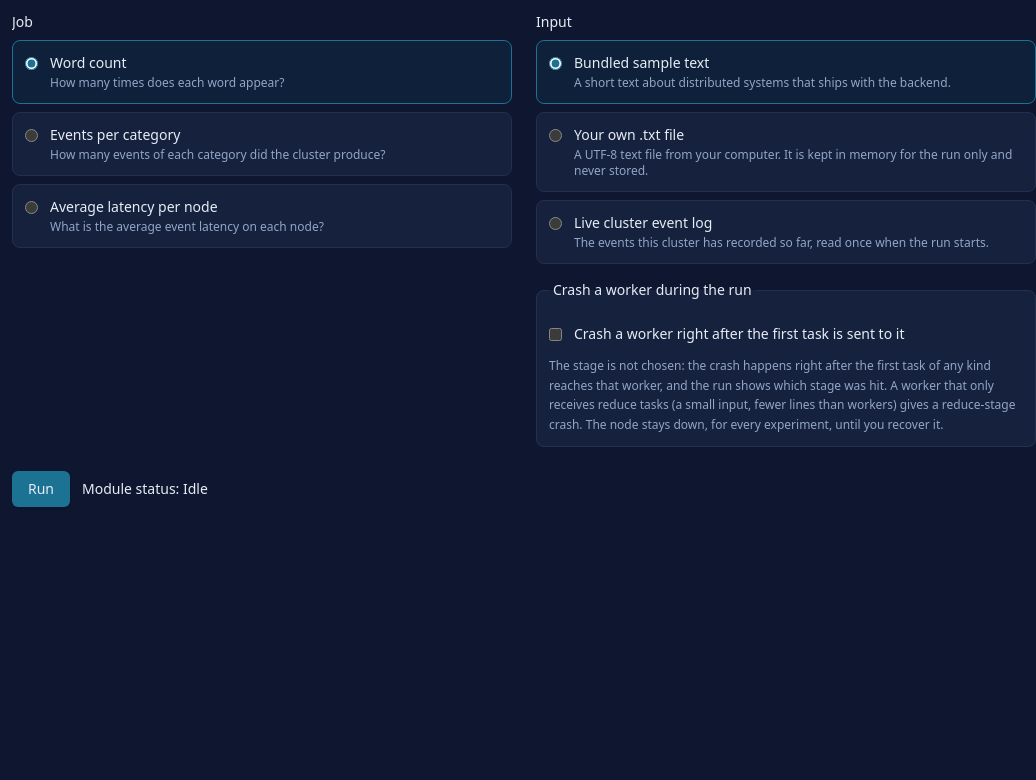
Test: RunControls › shows the backend's field message for a refused crash worker
The width and height of the screenshot is (1036, 780).
Click the checkbox labelled "Crash a worker right after the first task is sent to it": (556, 334) [549,328,562,341]
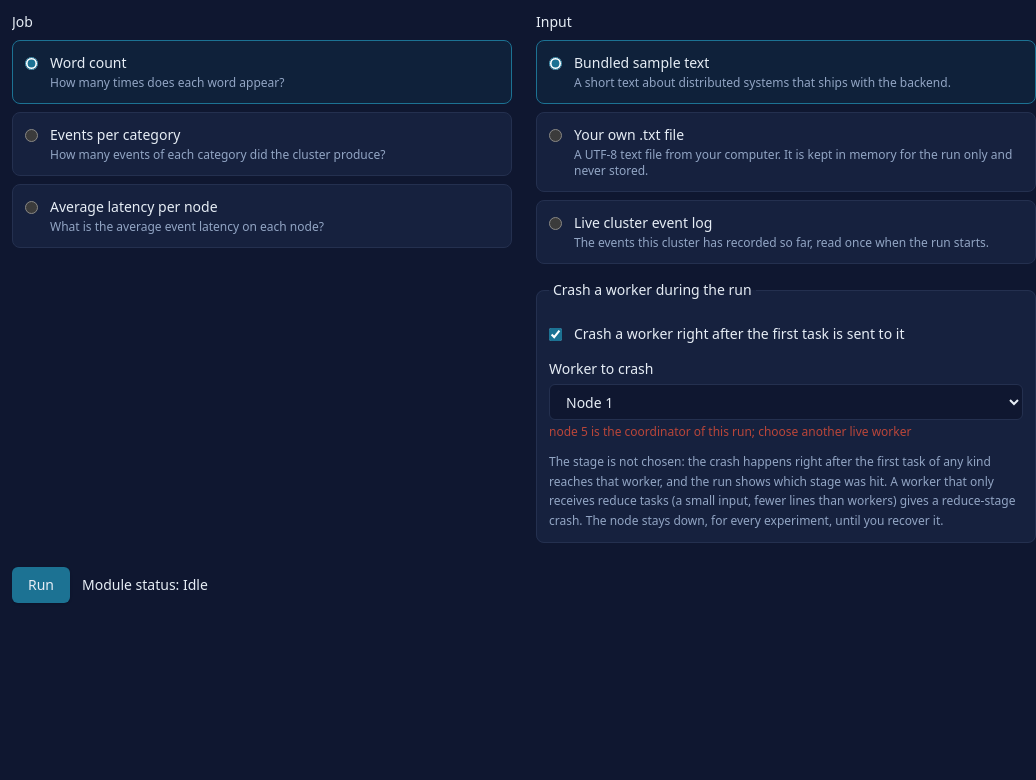
expect the text "node 5 is the coordinator of this run; choose another live worker" is shown: met, box [549,423,912,440]
